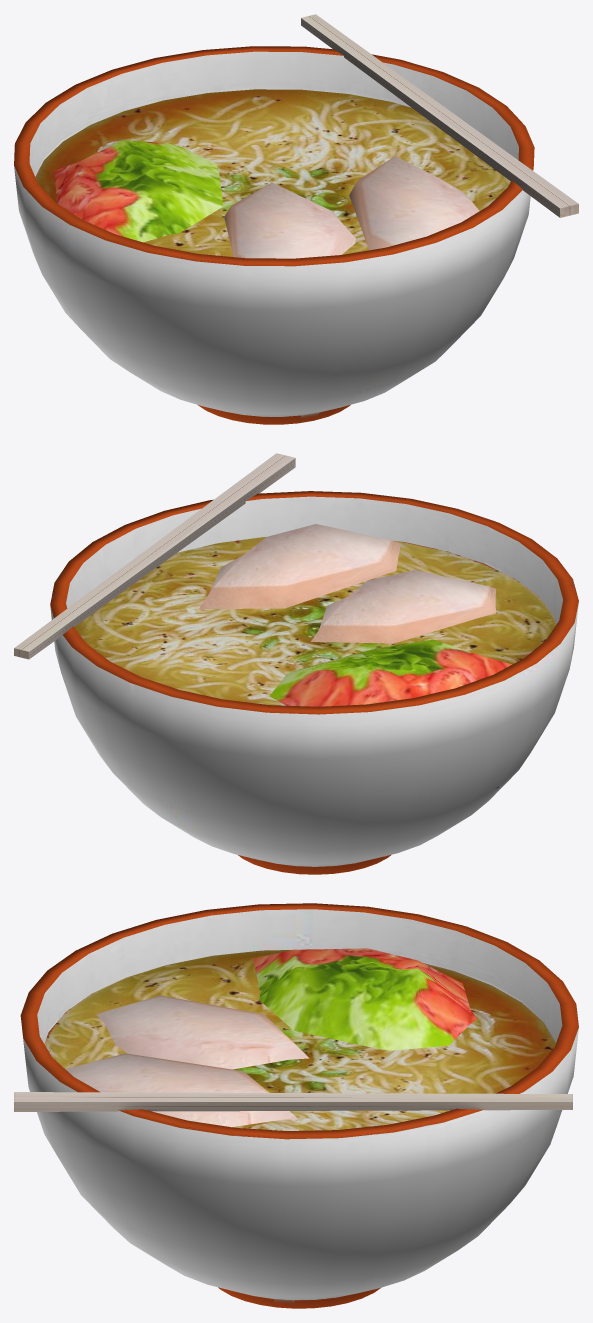
The model's file is polkaramen.glb.
3 views of the same model, one above another, from view 1: azimuth 30°, elevation 25°; view 2: azimuth 150°, elevation 25°; view 3: azimuth 270°, elevation 25° (orthographic). The views are drawn at different scales.
Visible parts, largest first — view 1: bowl, addon, chop; view 2: bowl, addon, chop; view 3: bowl, addon, chop.
Boxes of the visible parts, <box> form: bowl: <box>14,46,534,424</box>; addon: <box>54,140,479,258</box>; chop: <box>301,14,578,217</box>; bowl: <box>50,491,578,874</box>; addon: <box>199,524,511,706</box>; chop: <box>14,453,295,659</box>; bowl: <box>20,903,578,1308</box>; addon: <box>65,948,476,1127</box>; chop: <box>14,1092,572,1111</box>.
Bounding box in the file's own units: 0.2057 × 0.1046 × 0.2082.
3 materials, 3 textured.
